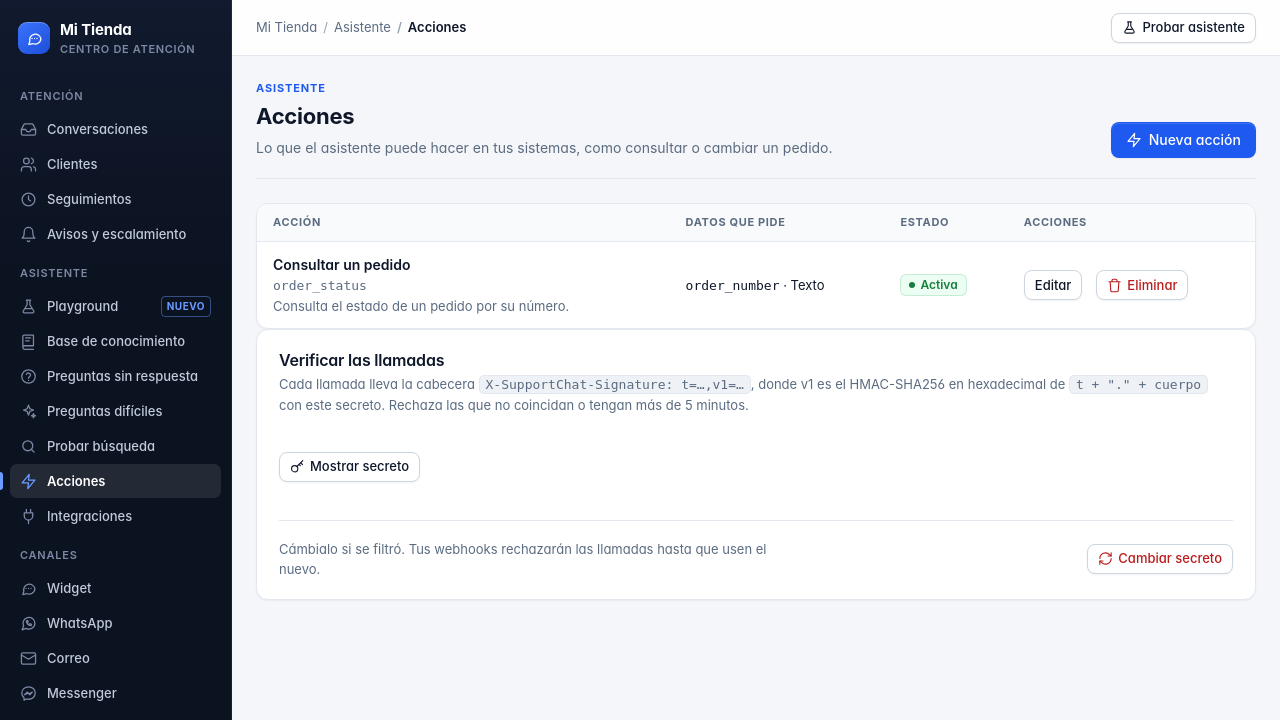
Assistant actions › reveals the signing secret on request
Click the button "Mostrar secreto".
click(350, 466)  # box [279,452,420,482]
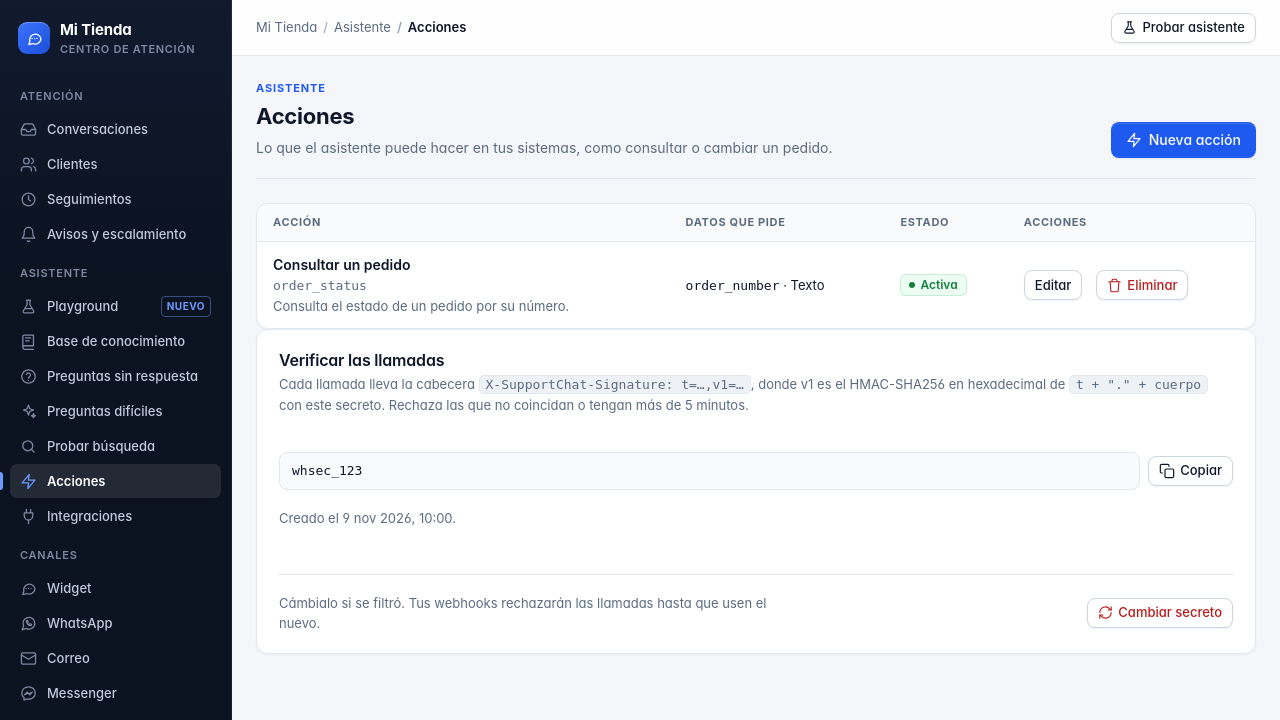
Expected: the button "Cambiar secreto" is shown, [1087,598,1233,628]
Expected: the text "whsec_123" is shown, [279,452,1140,490]
